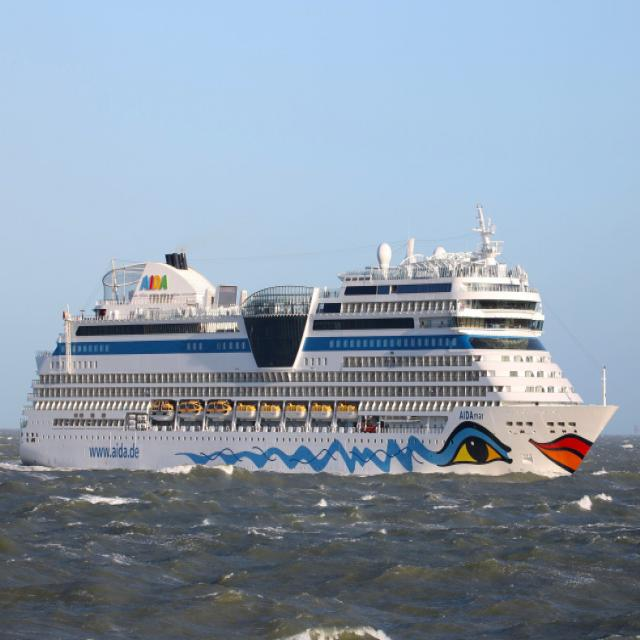cruises: (17, 203, 621, 484)
